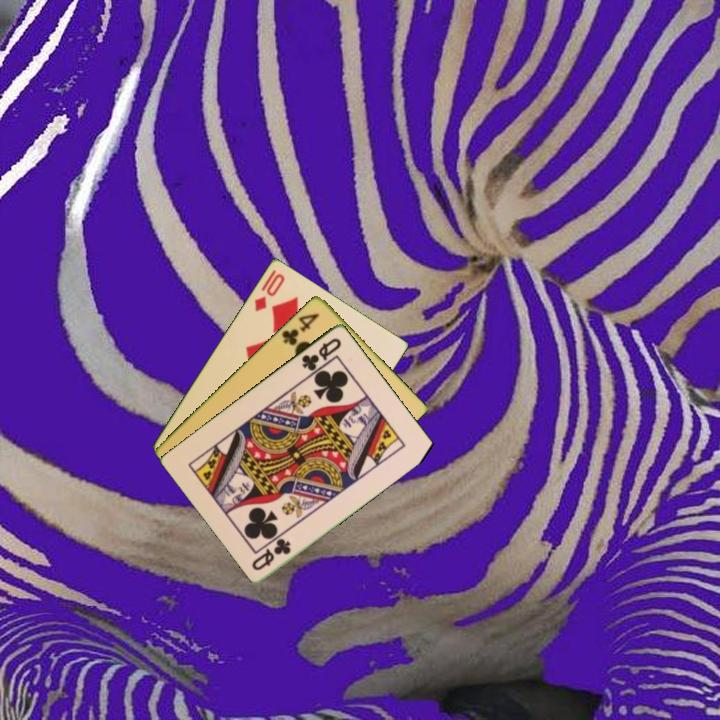10d: (251, 269, 288, 314)
4c: (278, 309, 322, 348)
Qc: (298, 334, 344, 374), (248, 534, 294, 573)
